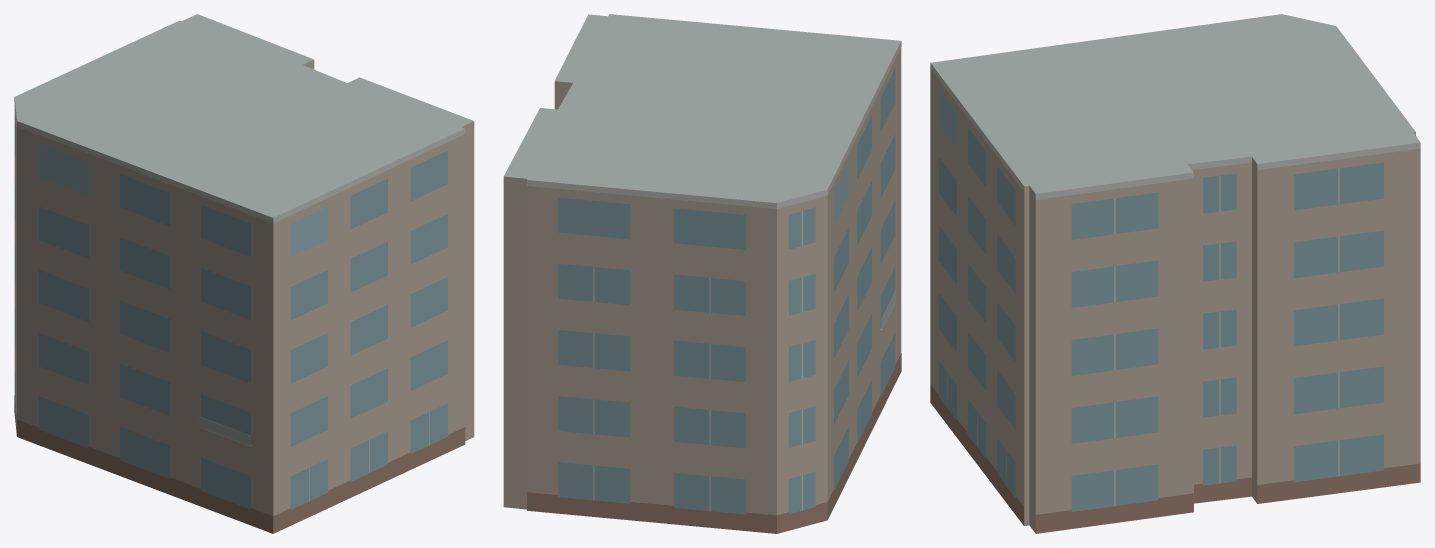
The model's file is survey-upis-32837699.glb.
3 views of the same model, side by side, from view 1: azimuth 30°, elevation 25°; view 2: azimuth 150°, elevation 25°; view 3: azimuth 270°, elevation 25° (orthographic). The views are drawn at different scales.
Visible parts, largest first — view 1: survey-upis-32837699.tmp; view 2: survey-upis-32837699.tmp; view 3: survey-upis-32837699.tmp.
Part boxes in pixels (x1,y1,x2,y2): survey-upis-32837699.tmp: [14, 14, 474, 533]; survey-upis-32837699.tmp: [503, 14, 901, 533]; survey-upis-32837699.tmp: [930, 14, 1420, 533].
Bounding box in the file's own units: 15.63 × 13.75 × 17.98.
